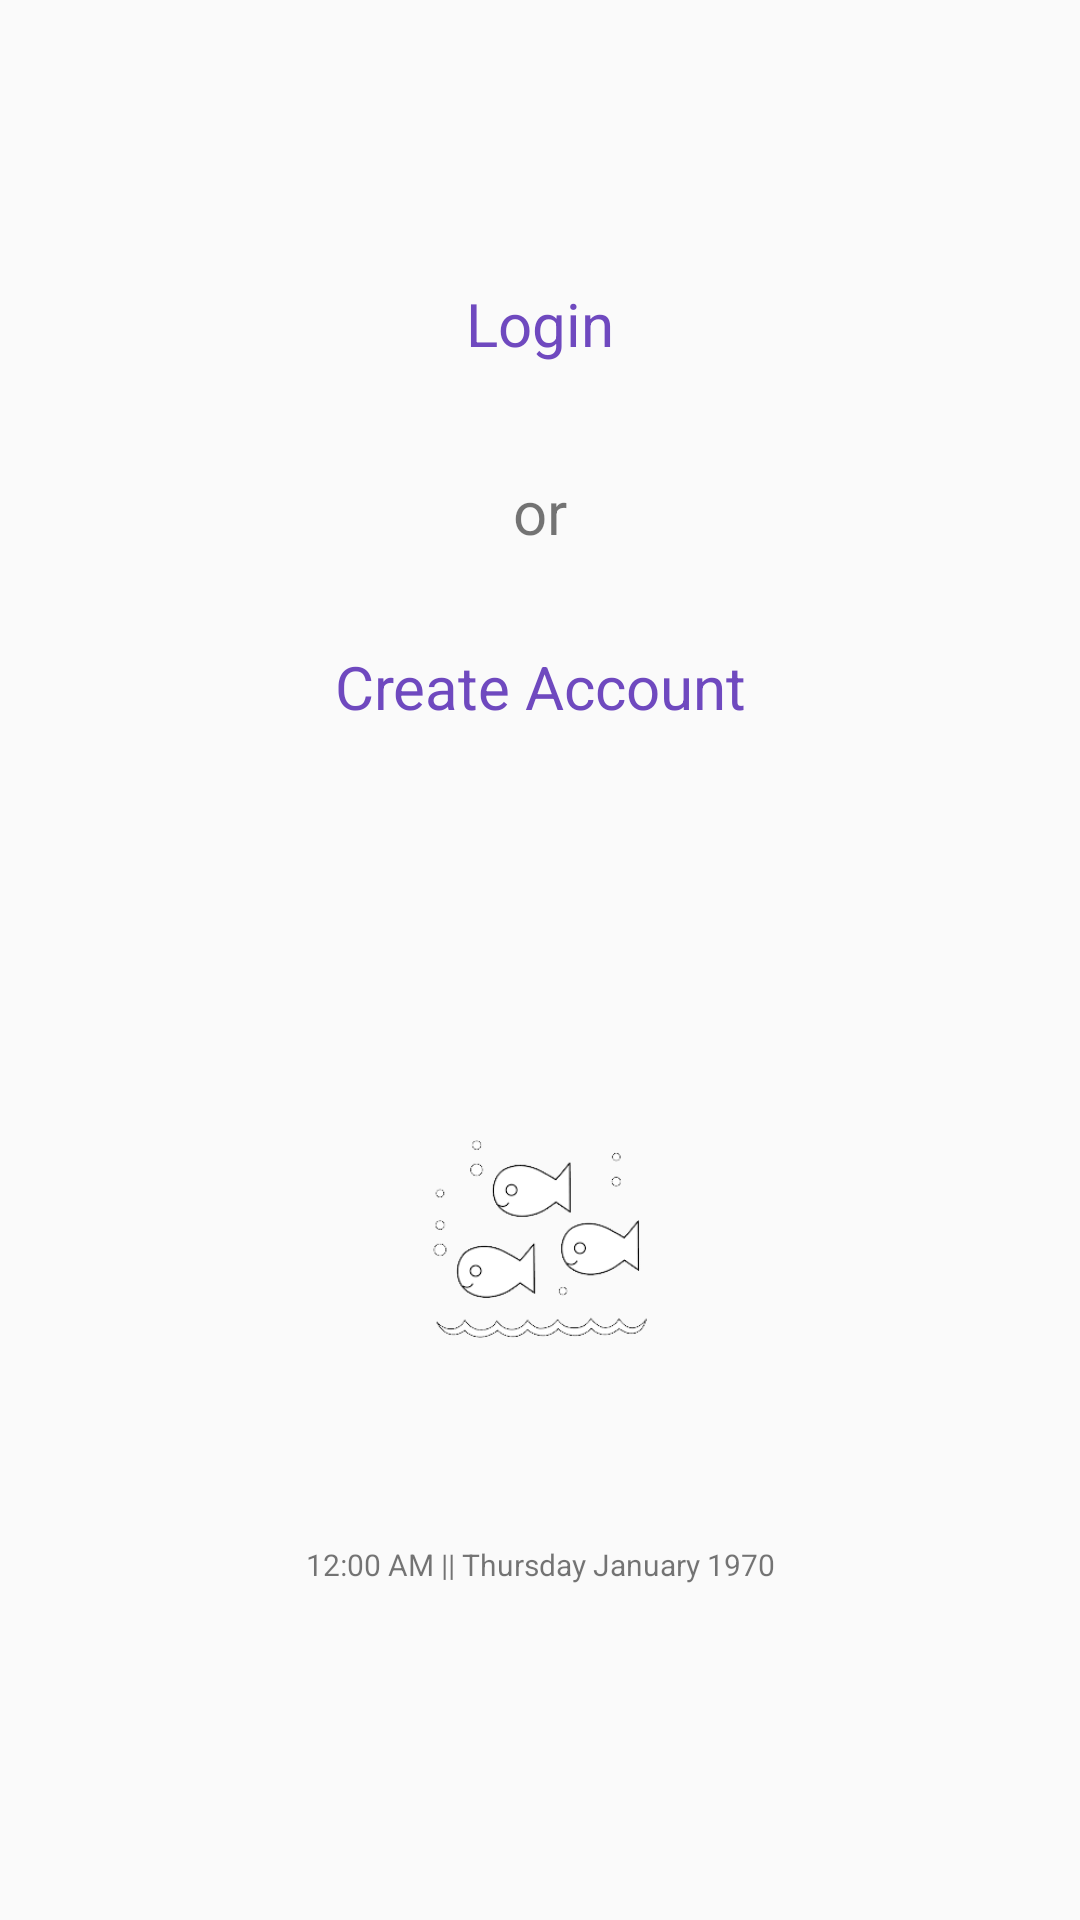

Where icons sit on this 1080px×1920px app screen, as (x1, y1, x2, y2):
fish: (433, 1140, 647, 1338)
